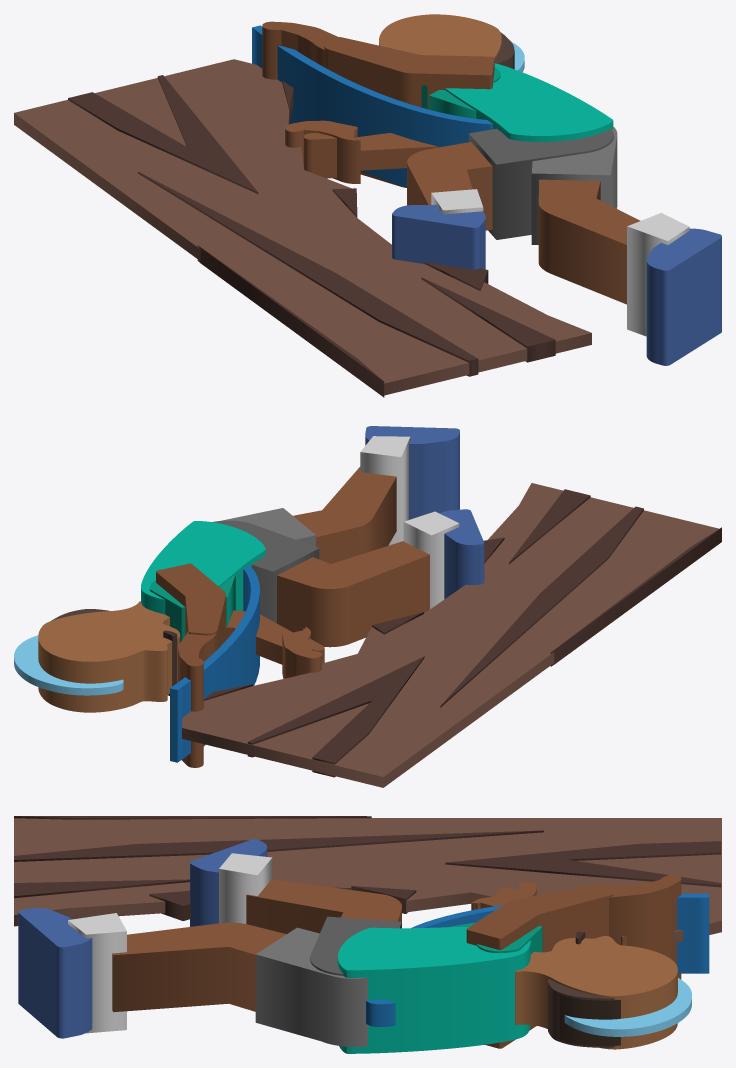
The model's file is emoji_u1f9d7_1f3fe_200d_2642.glb.
The picture shows the model from 3 angles, top to bottom: view 1: azimuth 30°, elevation 25°; view 2: azimuth 150°, elevation 25°; view 3: azimuth 270°, elevation 25°; orthographic projection. The views are drawn at different scales.
Visible parts, largest first — view 1: emoji_u1f9d7_1f3fe_200d_2642; view 2: emoji_u1f9d7_1f3fe_200d_2642; view 3: emoji_u1f9d7_1f3fe_200d_2642.
Boxes of the visible parts, box(x1,y1,x2,y2) form: emoji_u1f9d7_1f3fe_200d_2642: box(14, 14, 721, 397); emoji_u1f9d7_1f3fe_200d_2642: box(14, 426, 721, 787); emoji_u1f9d7_1f3fe_200d_2642: box(14, 816, 721, 1053).
Size of the model in its own units: 0.0237 by 0.0058 by 0.0338.
